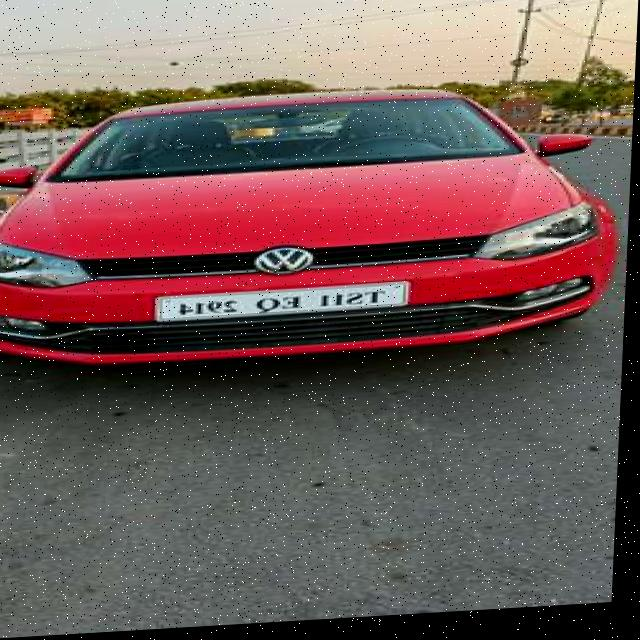plate: (157, 285, 417, 324)
